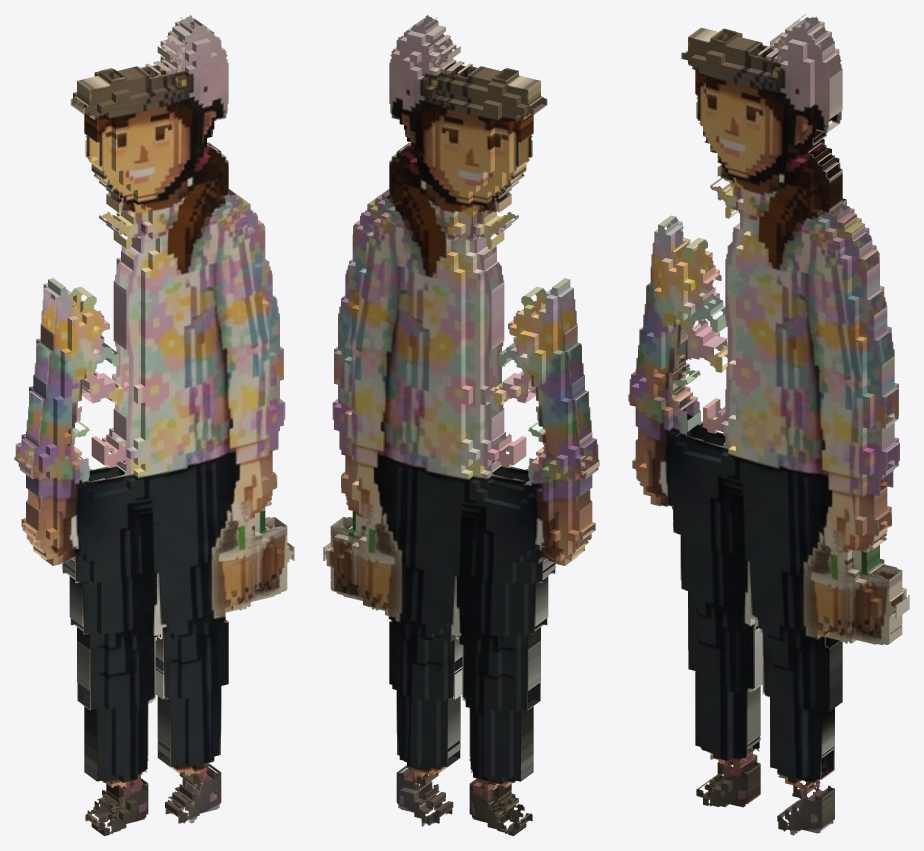
File: char_1.glb
The picture shows the model from 3 angles, left to right: view 1: azimuth 30°, elevation 25°; view 2: azimuth 150°, elevation 25°; view 3: azimuth 330°, elevation 25°; orthographic projection.
Parts seen in each view (by area): view 1: char_1; view 2: char_1; view 3: char_1.
Boxes of the visible parts, x1=… form: char_1: x1=14, y1=15, x2=294, y2=835; char_1: x1=323, y1=15, x2=599, y2=835; char_1: x1=628, y1=14, x2=909, y2=835.
Bounding box in the file's own units: 36 × 104 × 6.
Materials: 1 (1 with a texture image).
